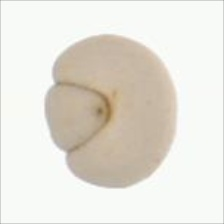L5: (40, 81, 112, 154)
L6: (41, 32, 181, 190)
